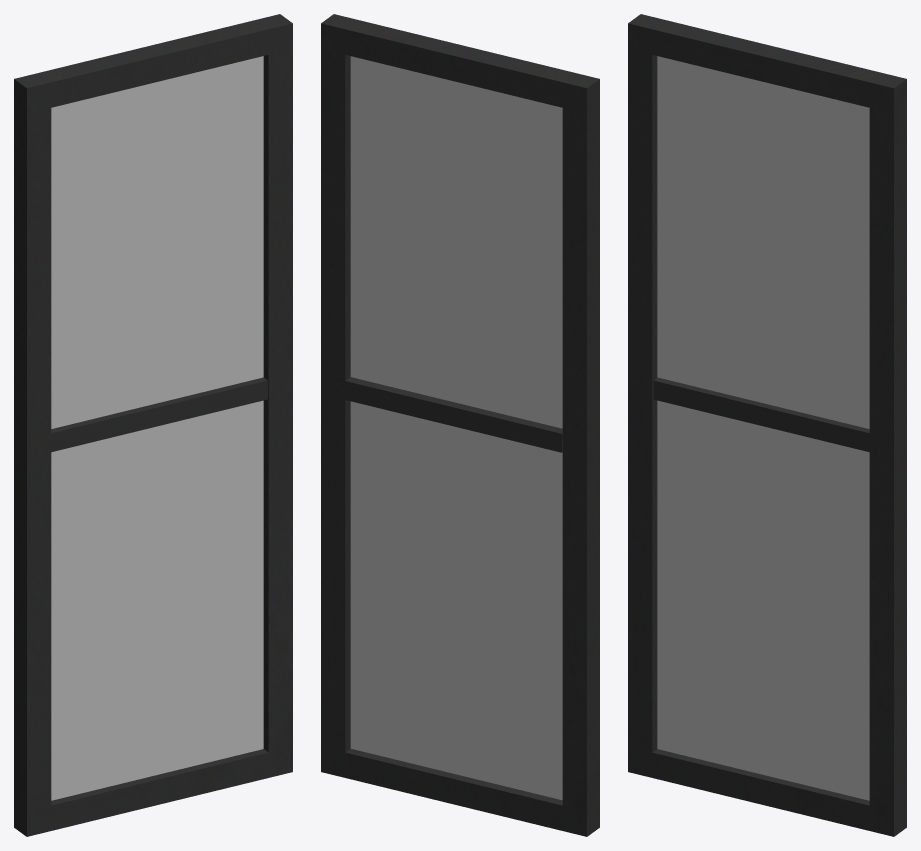
The model's file is Entrance one.fbx.
3 views of the same model, side by side, from view 1: azimuth 30°, elevation 25°; view 2: azimuth 150°, elevation 25°; view 3: azimuth 330°, elevation 25° (orthographic).
Parts seen in each view (by area): view 1: pCube572, pasted__pCube279, pasted__pCube275; view 2: pCube572, pasted__pCube279, pasted__pCube275; view 3: pCube572, pasted__pCube279, pasted__pCube275.
Part boxes in pixels (x1=…): pCube572: x1=51, y1=56, x2=263, y2=800; pasted__pCube279: x1=14, y1=14, x2=292, y2=836; pasted__pCube275: x1=51, y1=377, x2=267, y2=452; pCube572: x1=350, y1=56, x2=562, y2=800; pasted__pCube279: x1=321, y1=14, x2=599, y2=836; pasted__pCube275: x1=345, y1=377, x2=562, y2=452; pCube572: x1=657, y1=56, x2=869, y2=800; pasted__pCube279: x1=628, y1=14, x2=906, y2=836; pasted__pCube275: x1=653, y1=377, x2=869, y2=452.
Size of the model in its own units: 0.9957 by 2.68 by 0.0838.
Materials: 2 (2 with a texture image).
